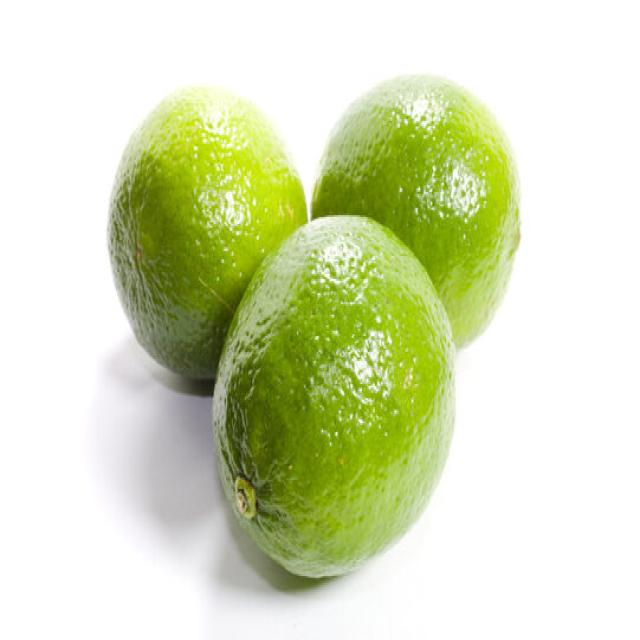Lemon: (210, 212, 457, 580), (105, 82, 308, 382), (310, 70, 520, 348)
